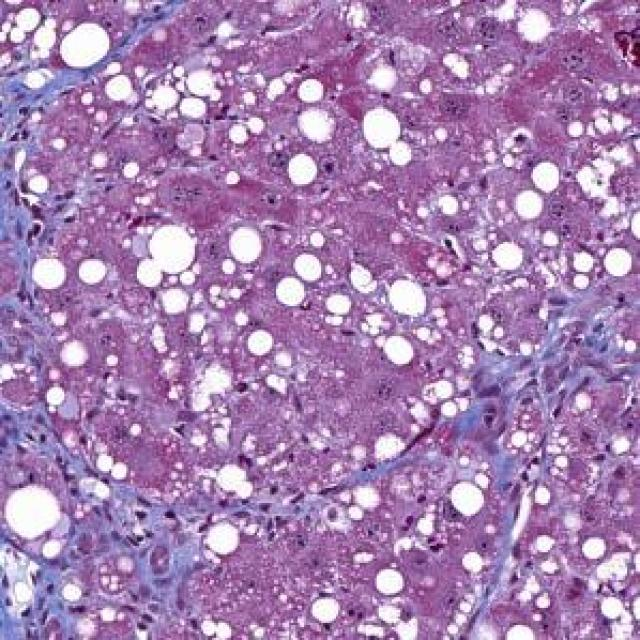fibrosis: (45, 441, 212, 612), (448, 306, 618, 469)
